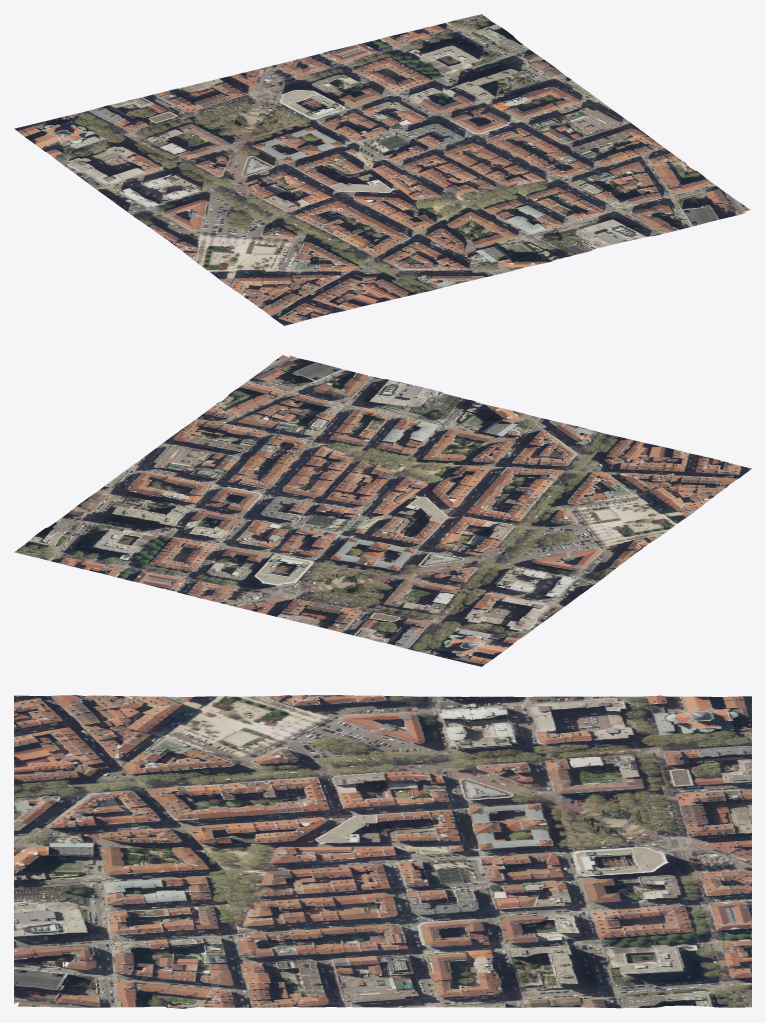
File: gml_babe4fa3-ecc6-4cd9-8a77-78814f30b57c.gltf
3 renders of one model, top to bottom at view 1: azimuth 30°, elevation 25°; view 2: azimuth 150°, elevation 25°; view 3: azimuth 270°, elevation 25°, orthographic. The views are drawn at different scales.
Parts seen in each view (by area): view 1: Z_UP; view 2: Z_UP; view 3: Z_UP.
Part boxes in pixels (x1,y1,x2,y2): Z_UP: (14, 14, 749, 325); Z_UP: (14, 355, 751, 666); Z_UP: (14, 695, 751, 1008).
Size of the model in its own units: 500 by 8.45 by 500.
1 material, 1 textured.
